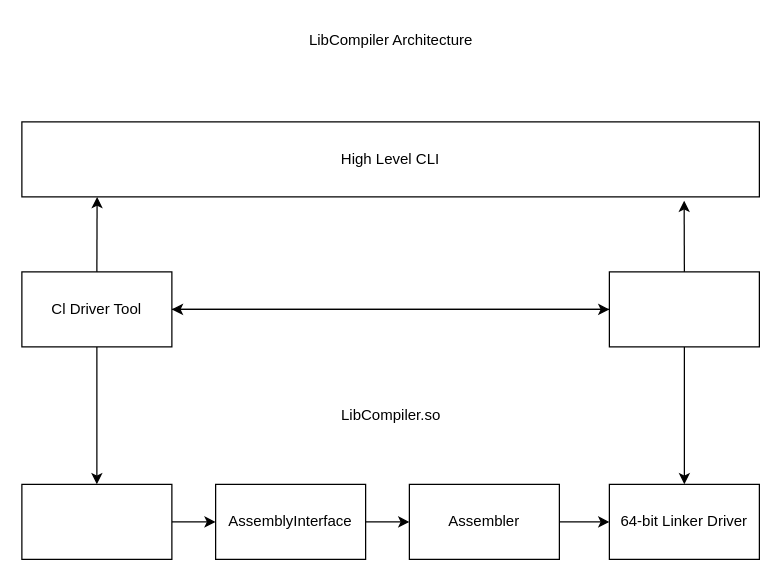
Some shapes in this 781 by 581 pixel diagram are drawn without their labels. Here are the shapes that lost their labels. From the top down, the centre of each, then its label:
At (683,309): "Linker Tool".
At (96,521): "CompilerFrontend".
